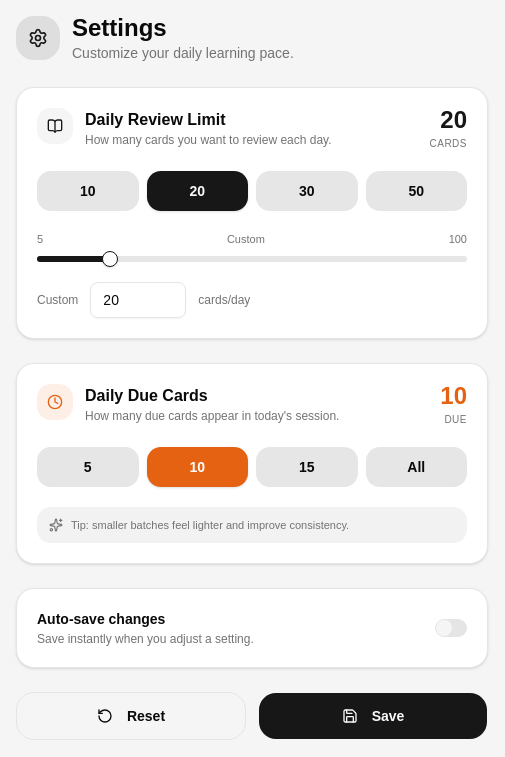
Test case: SettingsPage › auto-save toggle › Save button becomes disabled after toggling autoSave on
The image size is (505, 757).
expect the button "Save" is enabled: met, box [258,692,488,740]
Click the switch at (451, 628), box [435,619,467,637]
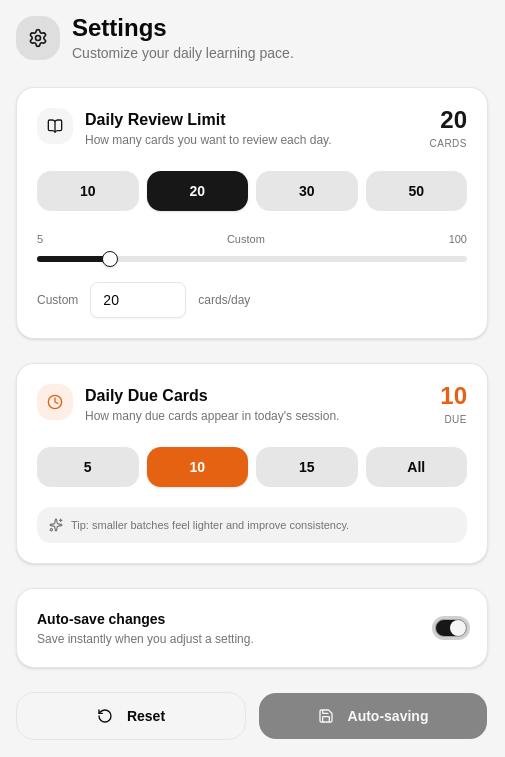
expect the button "Auto-saving" is disabled: met, box [258,692,488,740]
